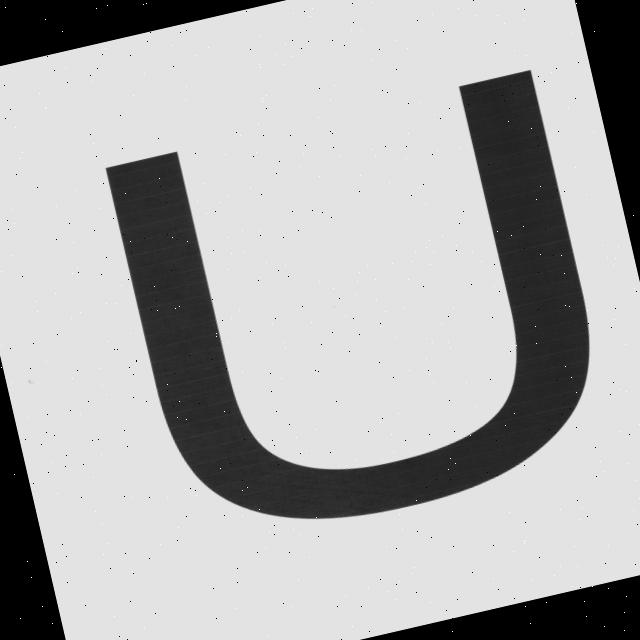u: (77, 50, 640, 581)
